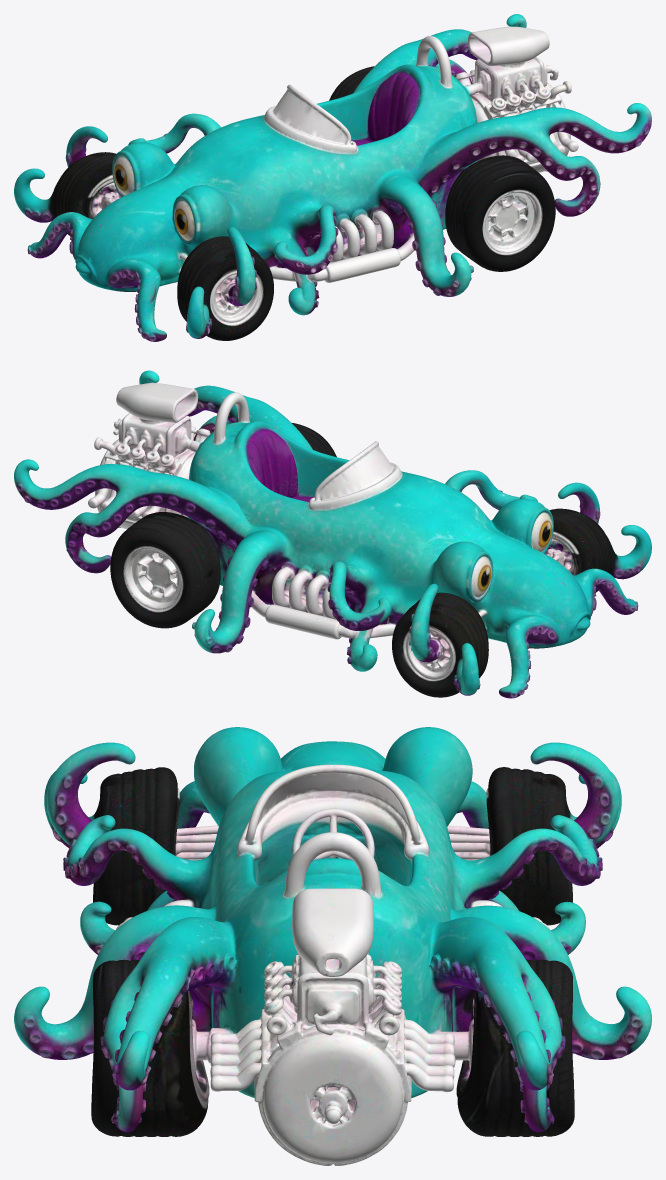
Rendered from kraken.glb.
3 renders of one model, top to bottom at view 1: azimuth 30°, elevation 25°; view 2: azimuth 150°, elevation 25°; view 3: azimuth 270°, elevation 25°, orthographic. The views are drawn at different scales.
Visible parts, largest first — view 1: object 1, wheel_1; view 2: object 1, wheel_0; view 3: object 1, wheel_1, wheel_0.
Boxes of the visible parts, bbox=[...] form: object 1: bbox=[14, 14, 651, 341]; wheel_1: bbox=[434, 153, 554, 267]; object 1: bbox=[14, 370, 651, 698]; wheel_0: bbox=[111, 509, 228, 623]; object 1: bbox=[14, 727, 651, 1165]; wheel_1: bbox=[91, 974, 265, 1123]; wheel_0: bbox=[401, 975, 574, 1123].
Size of the model in its own units: 1.9 by 0.6531 by 1.29.
Materials: 1 (1 with a texture image).
